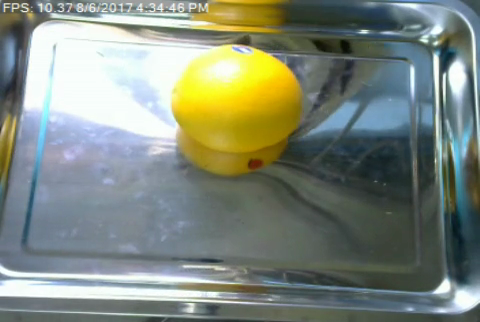Orange: (171, 44, 303, 152)
